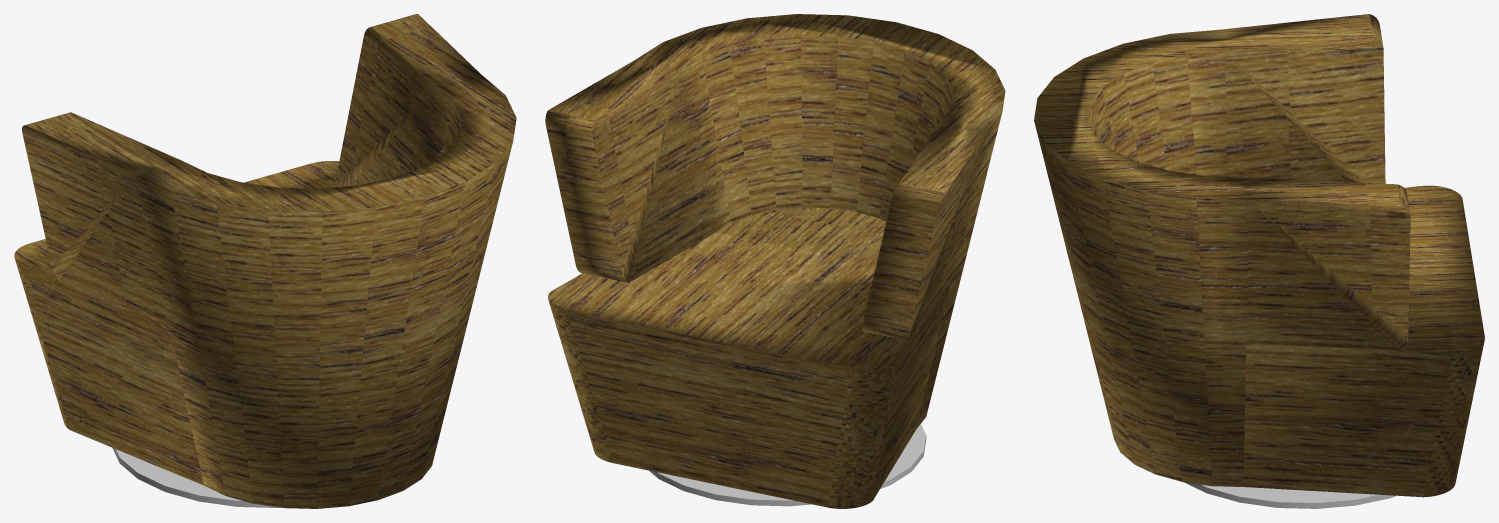
3 views of the same model, side by side, from view 1: azimuth 30°, elevation 25°; view 2: azimuth 150°, elevation 25°; view 3: azimuth 270°, elevation 25° (orthographic). The views are drawn at different scales.
Visible parts, largest first — view 1: mesh7_mesh7-geometry, mesh1_mesh1-geometry, mesh4_mesh4-geometry; view 2: mesh7_mesh7-geometry, mesh1_mesh1-geometry, mesh4_mesh4-geometry; view 3: mesh7_mesh7-geometry, mesh1_mesh1-geometry, mesh4_mesh4-geometry.
Part boxes in pixels (left/top/right/bottom): mesh7_mesh7-geometry: left=22, top=14, right=516, bottom=508; mesh1_mesh1-geometry: left=14, top=161, right=339, bottom=485; mesh4_mesh4-geometry: left=112, top=448, right=280, bottom=507; mesh7_mesh7-geometry: left=545, top=14, right=1005, bottom=428; mesh1_mesh1-geometry: left=548, top=207, right=950, bottom=508; mesh4_mesh4-geometry: left=649, top=424, right=926, bottom=506; mesh7_mesh7-geometry: left=1034, top=14, right=1410, bottom=486; mesh1_mesh1-geometry: left=1243, top=185, right=1484, bottom=497; mesh4_mesh4-geometry: left=1184, top=482, right=1396, bottom=508.
Bounding box in the file's own units: 0.6173 × 0.4968 × 0.6101.
